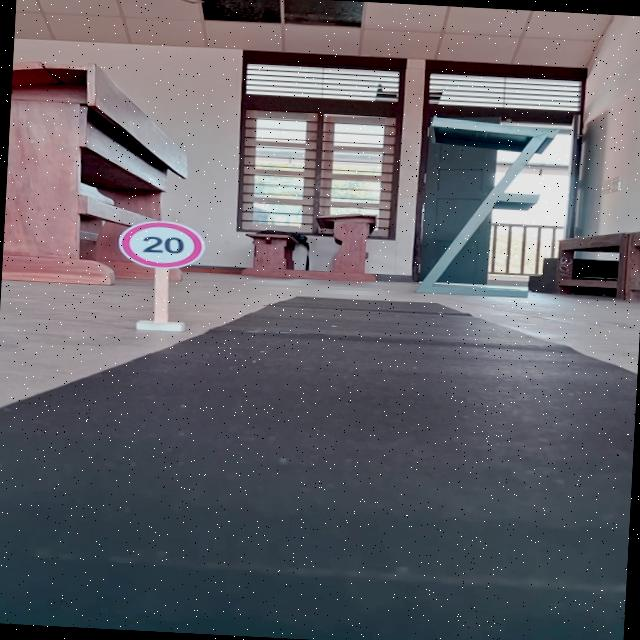Speed20: (113, 217, 210, 276)
